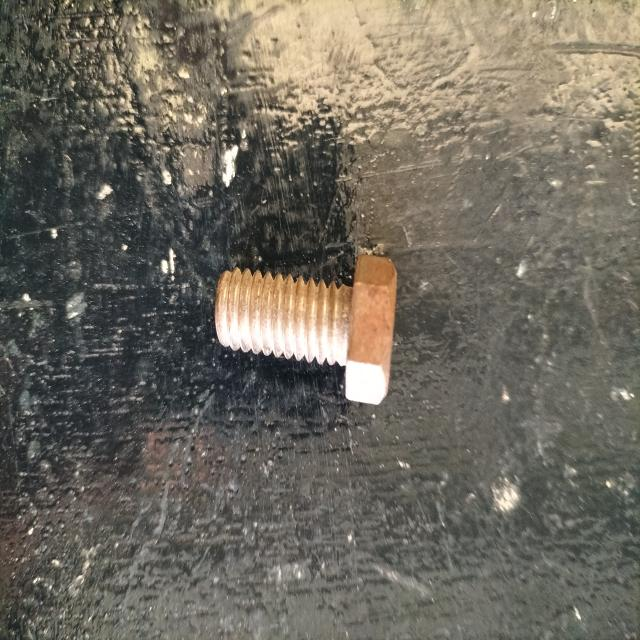bolt: (215, 255, 396, 406)
